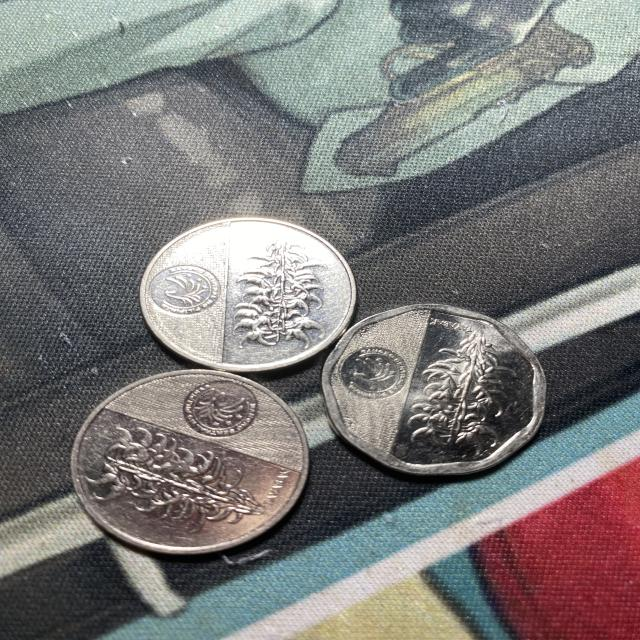5_New_Back: (93, 434, 261, 522), (411, 325, 512, 453), (234, 231, 328, 348)
